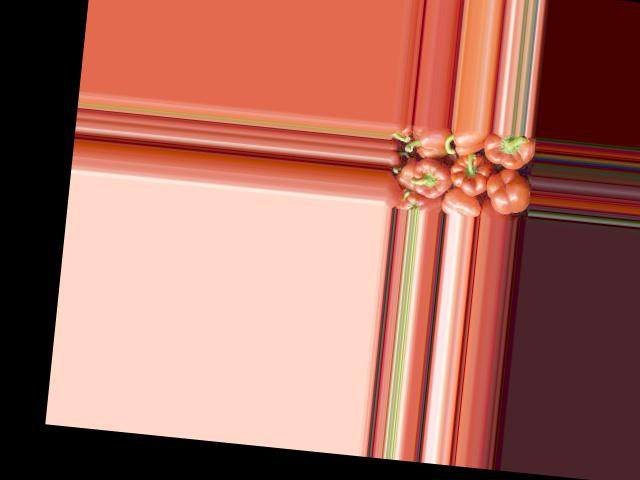bell_pepper: (441, 190, 483, 216)
